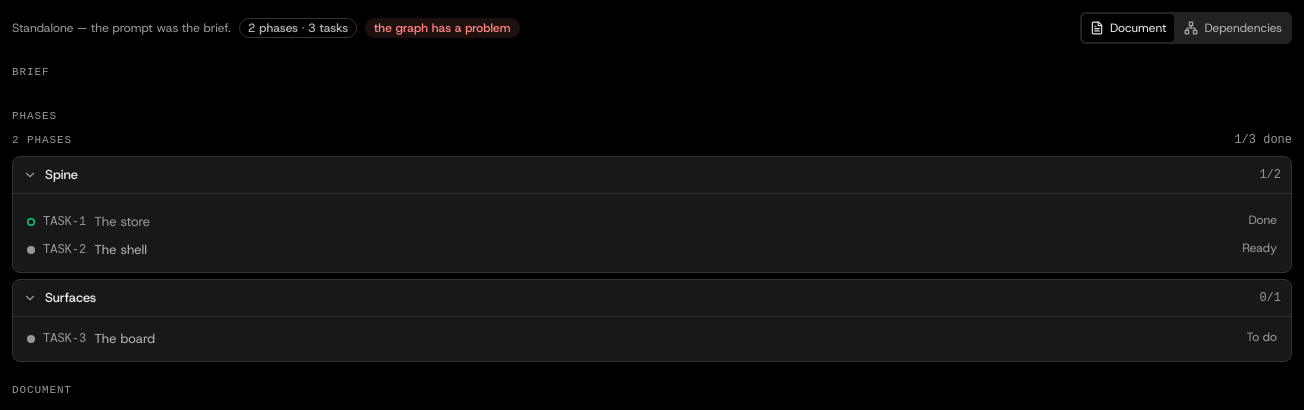
the dependencies view › renders a graph refusal in the host's own words, with the keys it named
Click the tab "Dependencies".
click(1233, 28)  # box 1176,14 -> 1290,42
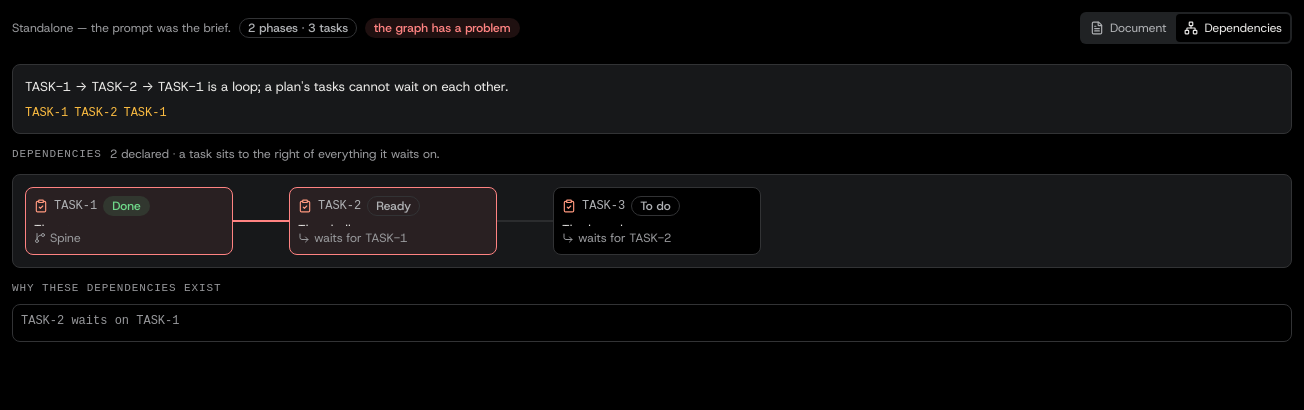
Check: the text "TASK-1 → TASK-2 → TASK-1 is a loop; a plan's tasks cannot wait on each other." is shown, box 25,78 -> 508,95
Check: the message is shown, box 12,64 -> 1292,134
